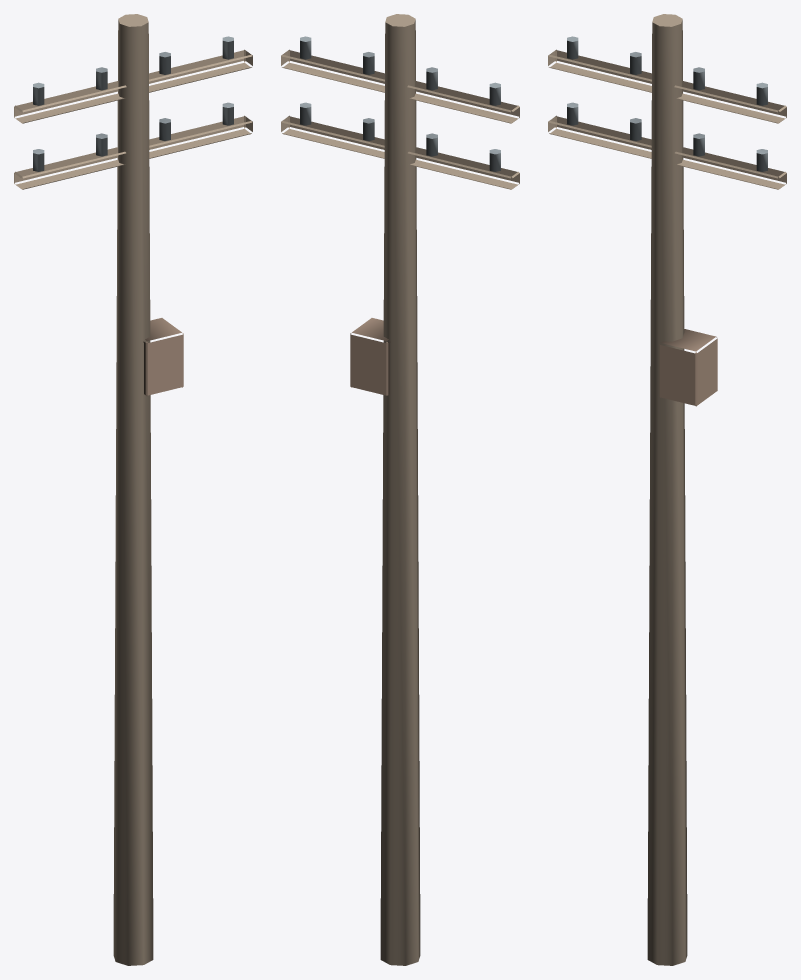
File: utility_pole.glb
3 views of the same model, side by side, from view 1: azimuth 30°, elevation 25°; view 2: azimuth 150°, elevation 25°; view 3: azimuth 330°, elevation 25° (orthographic).
Visible parts, largest first — view 1: props_utility_pole; view 2: props_utility_pole; view 3: props_utility_pole.
Part boxes in pixels (x1=…): props_utility_pole: x1=14, y1=14, x2=252, y2=965; props_utility_pole: x1=281, y1=14, x2=519, y2=965; props_utility_pole: x1=548, y1=14, x2=786, y2=965.
Bounding box in the file's own units: 2.2 × 8.5 × 0.36.
